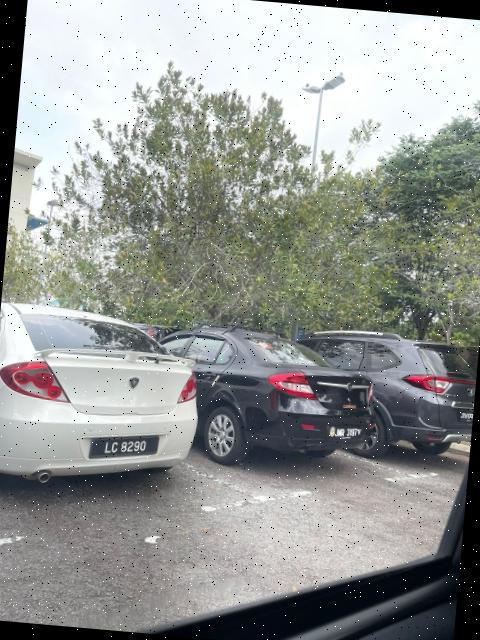License_Plate: (97, 430, 153, 465), (326, 421, 369, 445), (451, 404, 475, 429)
car: (1, 294, 205, 507), (127, 312, 384, 481), (275, 319, 480, 464)
